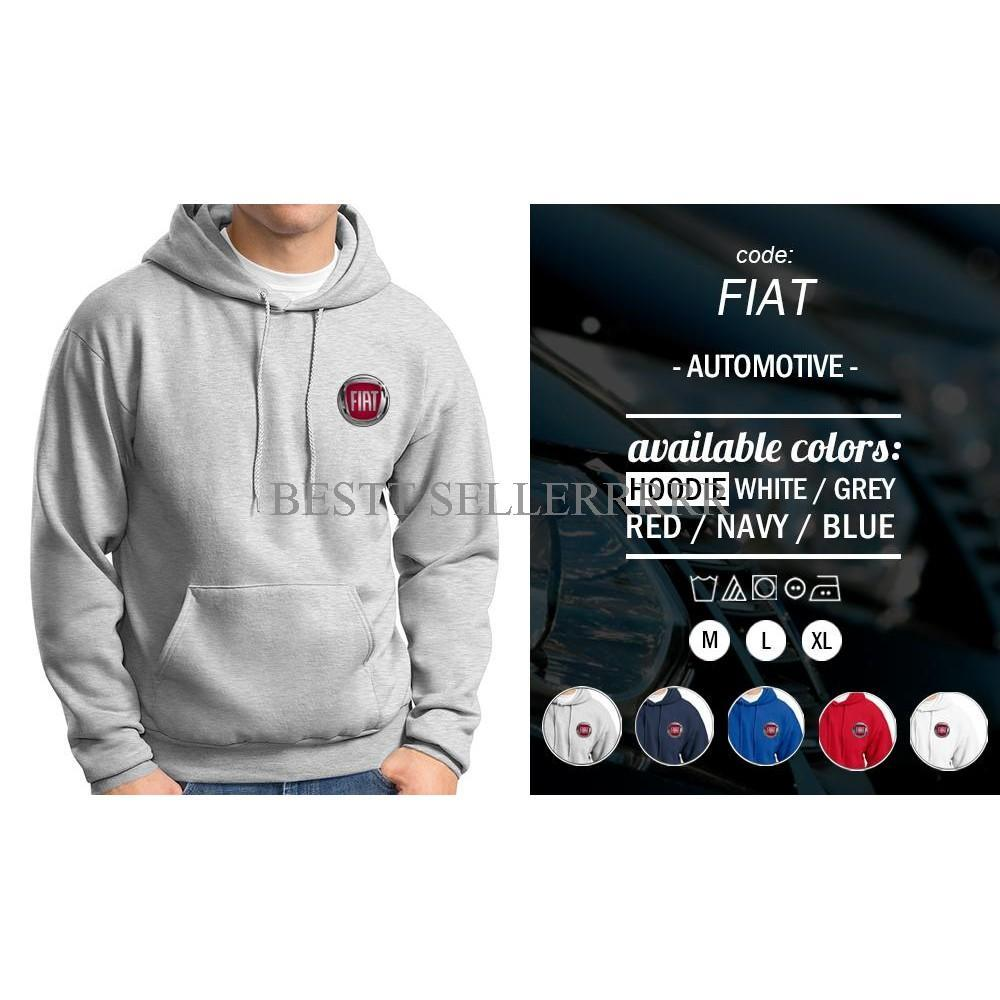sweater: (36, 204, 487, 779)
